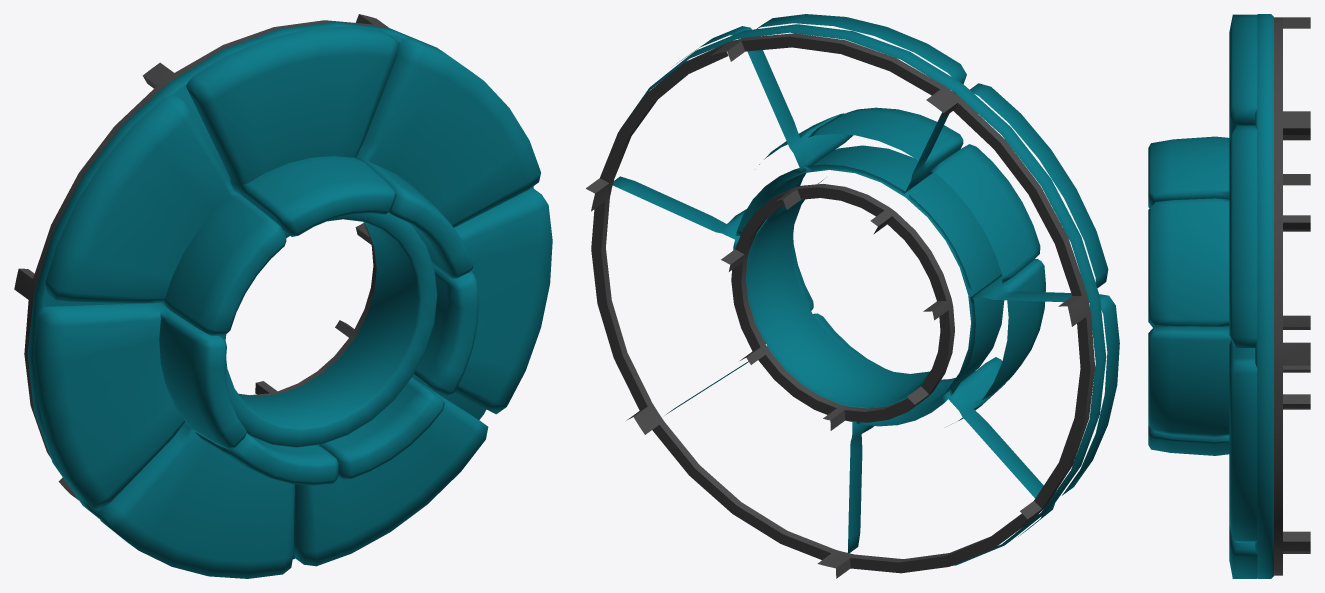
File: couch_outward_curve.glb
3 views of the same model, side by side, from view 1: azimuth 30°, elevation 25°; view 2: azimuth 150°, elevation 25°; view 3: azimuth 270°, elevation 25° (orthographic). The views are drawn at different scales.
Visible parts, largest first — view 1: couch_outward_curve; view 2: couch_outward_curve; view 3: couch_outward_curve.
Part boxes in pixels (x1=…): couch_outward_curve: x1=14, y1=14, x2=552, y2=578; couch_outward_curve: x1=586, y1=14, x2=1119, y2=578; couch_outward_curve: x1=1148, y1=14, x2=1310, y2=578.
Bounding box in the file's own units: 3.44 × 3.43 × 0.987.
